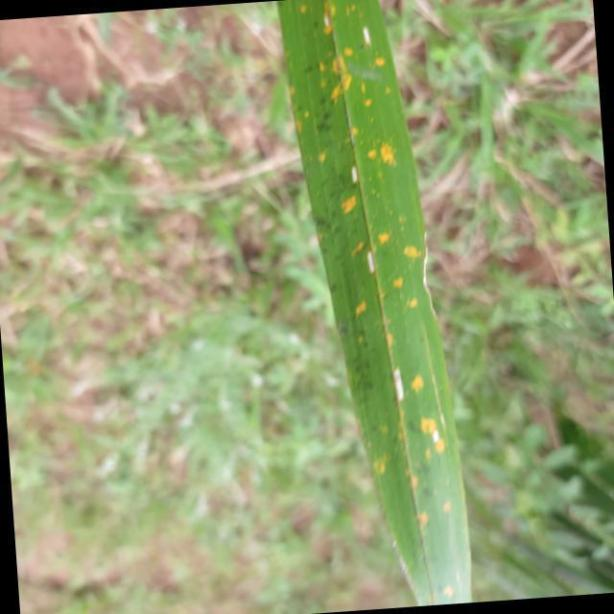Kalium: (277, 0, 472, 614)
